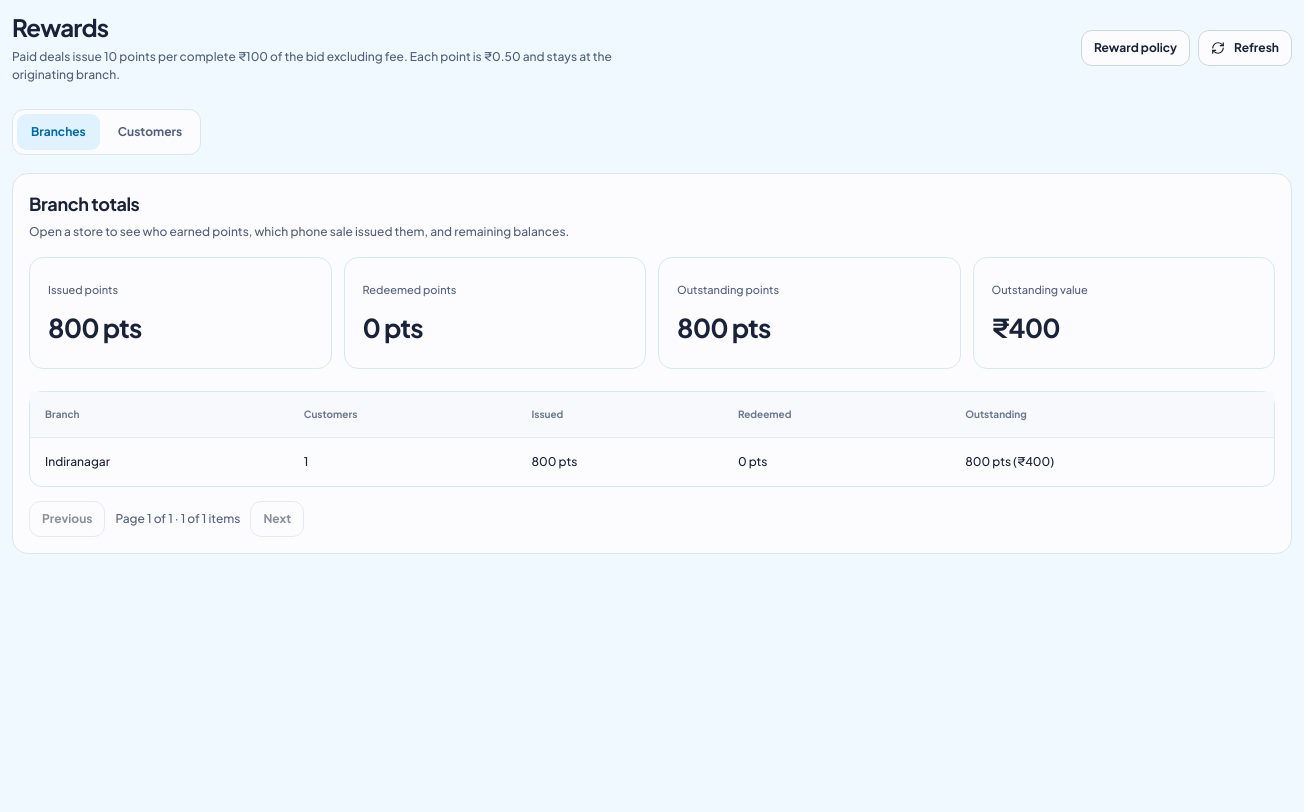
Scenario: A15 lists branch reward totals and opens customer lookup
Expected: the heading "Rewards" is shown, [12,12,108,42]
Expected: the text "Indiranagar" is shown, [30,438,289,486]
Click the tab "Customers" at (150, 132), box [104,114,196,150]
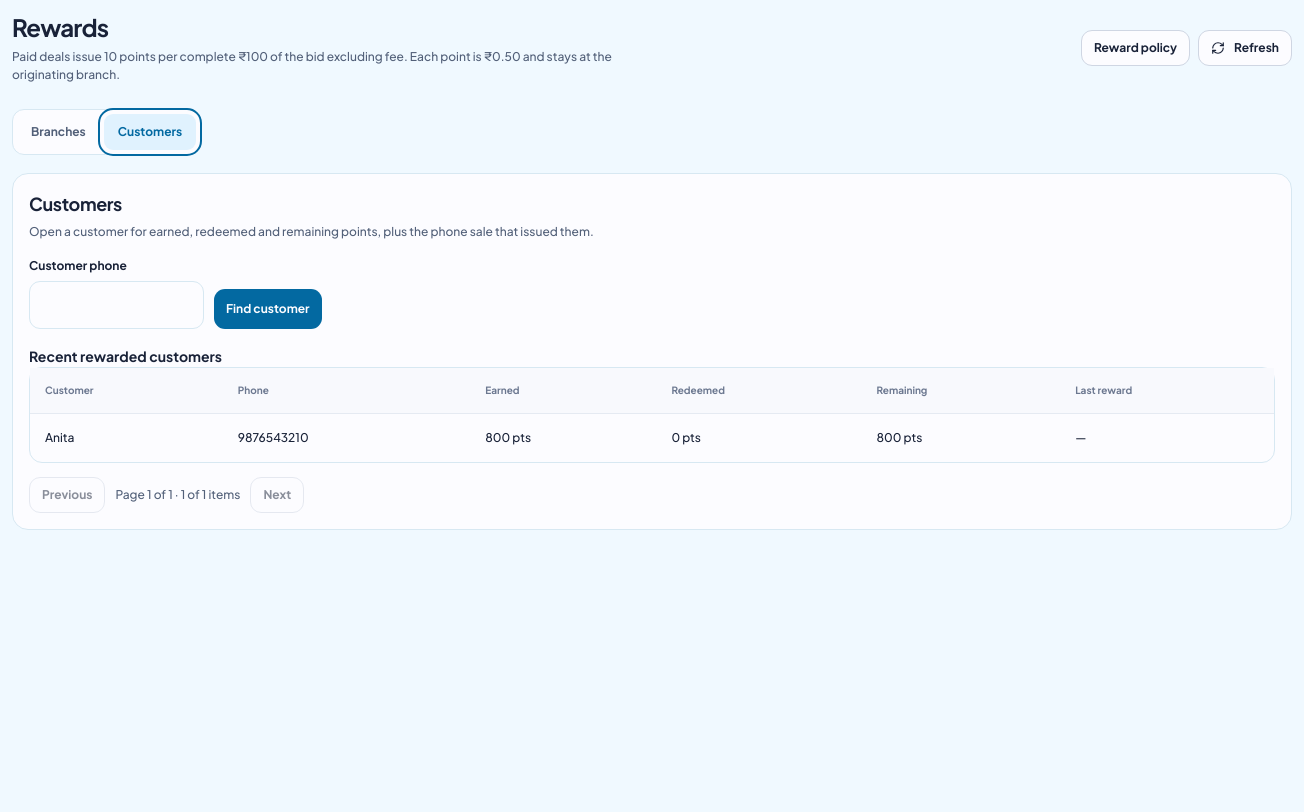
Expected: the heading "Customers" is shown, [29,192,122,215]
Type "9876543210" into the field labelled "Customer phone" at (116, 305), box [29,281,204,329]
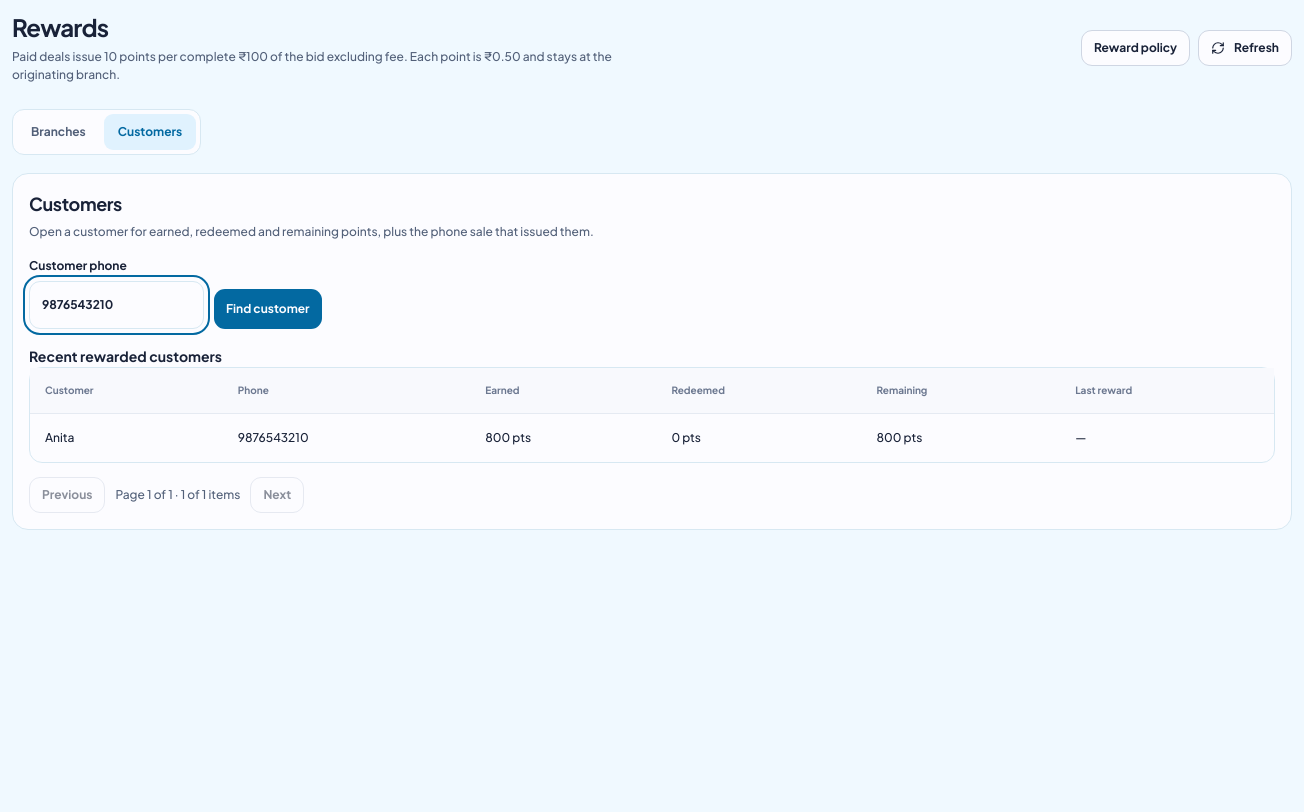
Click the button "Find customer" at (268, 309), box [214,289,322,329]
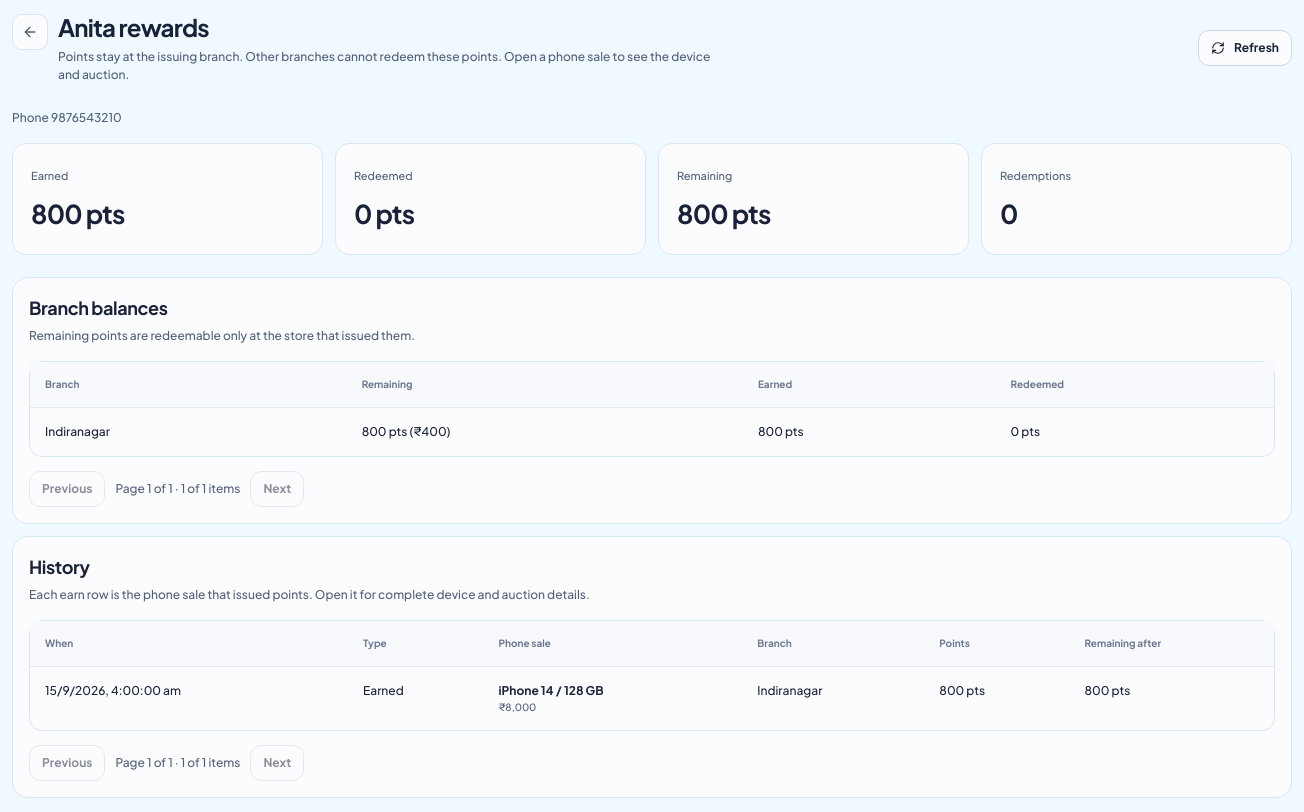
Expected: the heading "Anita rewards" is shown, [58,12,209,42]
Expected: the heading "History" is shown, [29,555,90,578]
Expected: the text "Earned" is shown, [31,169,68,182]
